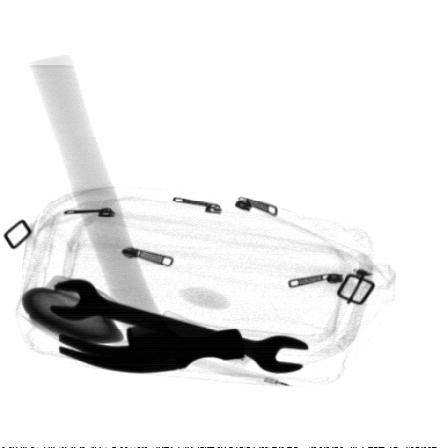Hammer: (25, 50, 244, 376)
Wrench: (47, 278, 310, 375)
